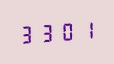one: (75, 18, 93, 41)
three: (18, 22, 36, 45), (37, 21, 55, 44)
zero: (56, 20, 74, 42)
